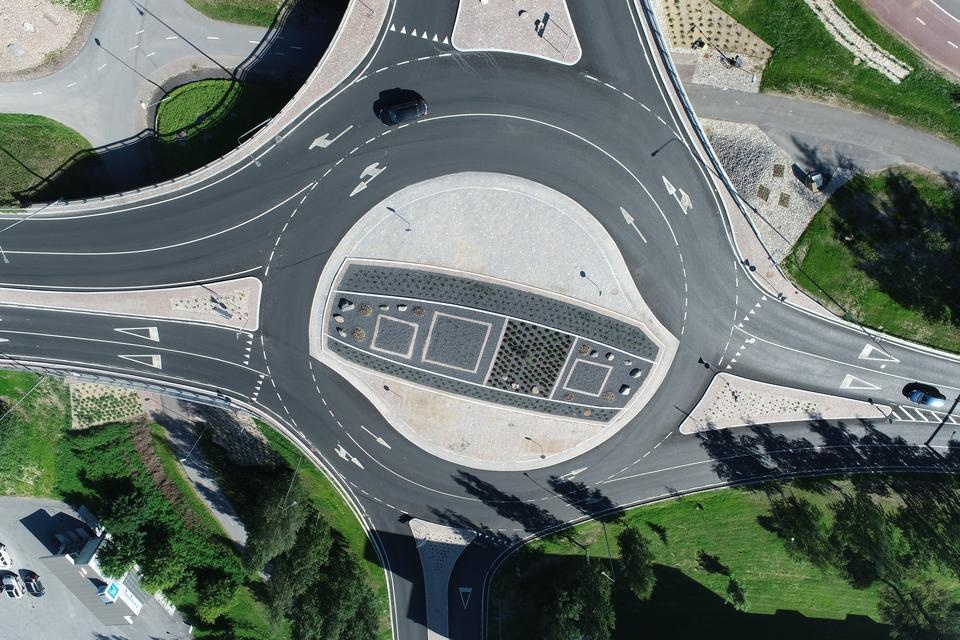roundabout: (214, 0, 788, 594)
